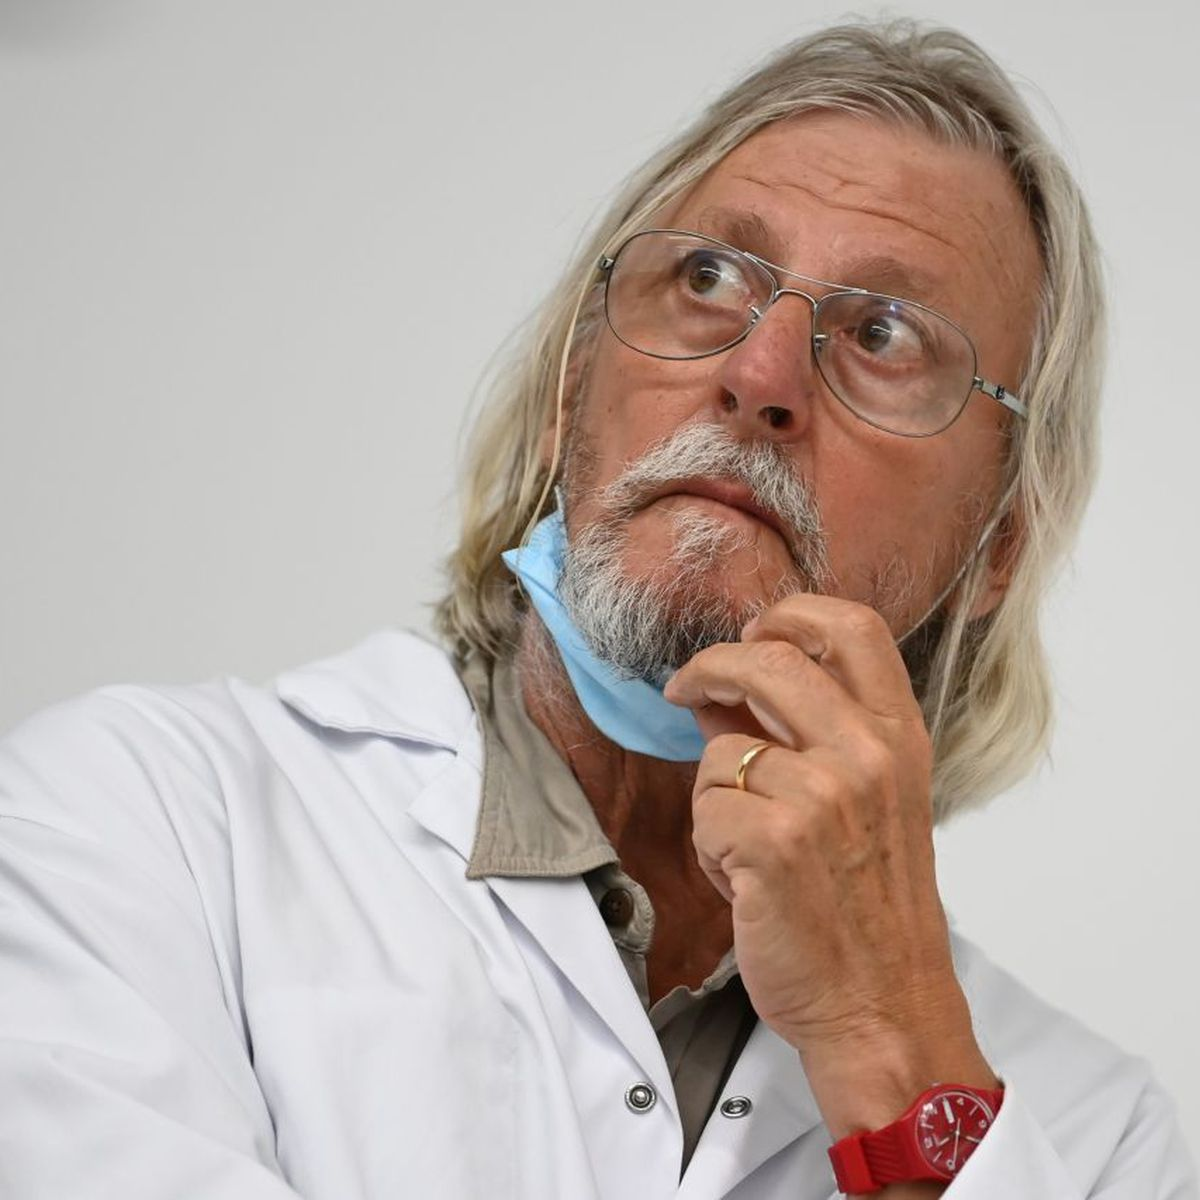with_incorrect_mask: (609, 181, 950, 741)
